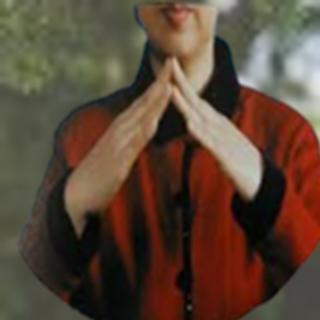HOME: (77, 55, 262, 215)
